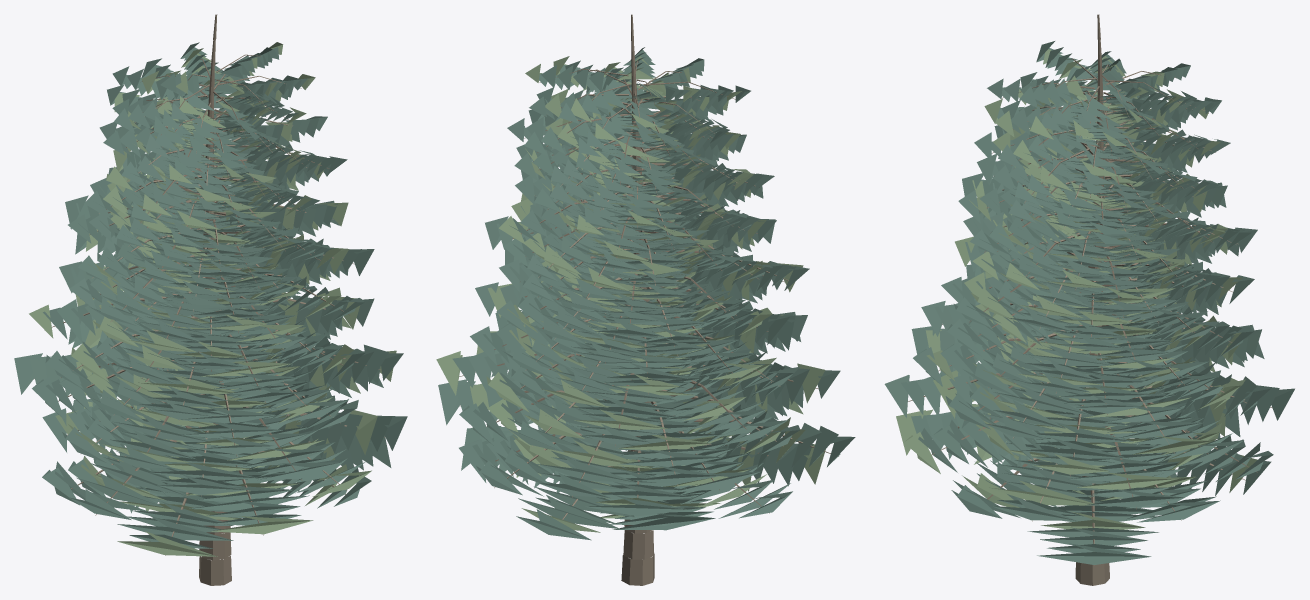
File: cedar_fir_b.gltf
3 views of the same model, side by side, from view 1: azimuth 30°, elevation 25°; view 2: azimuth 150°, elevation 25°; view 3: azimuth 270°, elevation 25° (orthographic).
Parts seen in each view (by area): view 1: Environment_HD_Source; view 2: Environment_HD_Source; view 3: Environment_HD_Source.
Part boxes in pixels (box(x1,y1,x2,y2)): Environment_HD_Source: box(14, 14, 407, 585); Environment_HD_Source: box(436, 14, 855, 585); Environment_HD_Source: box(884, 14, 1294, 585).
Bounding box in the file's own units: 11.79 × 18.21 × 11.98.
